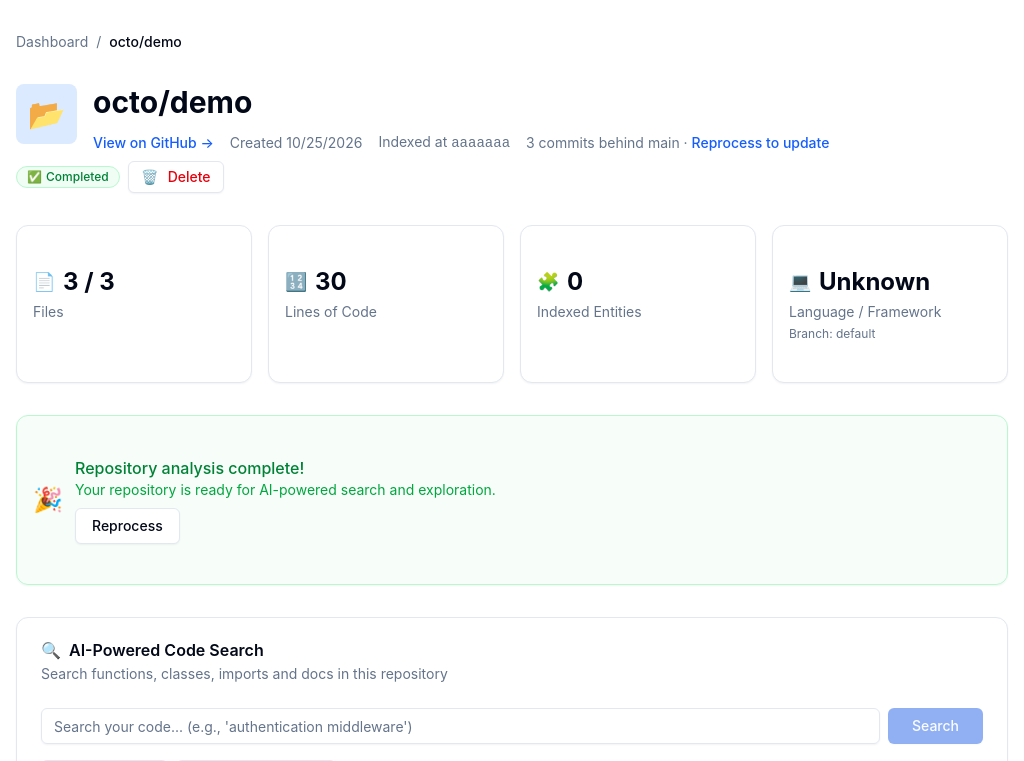
Test: RepositoryPage index freshness › shows {"commits_behind":3,"changed":true} as '3 commits behind main' with a Reprocess hint
The image size is (1024, 761).
Check: the text "3 commits behind main" is shown, box 526,134 -> 680,150
Click the button "Reprocess to update": {"x": 760, "y": 142} 692,132 -> 829,152
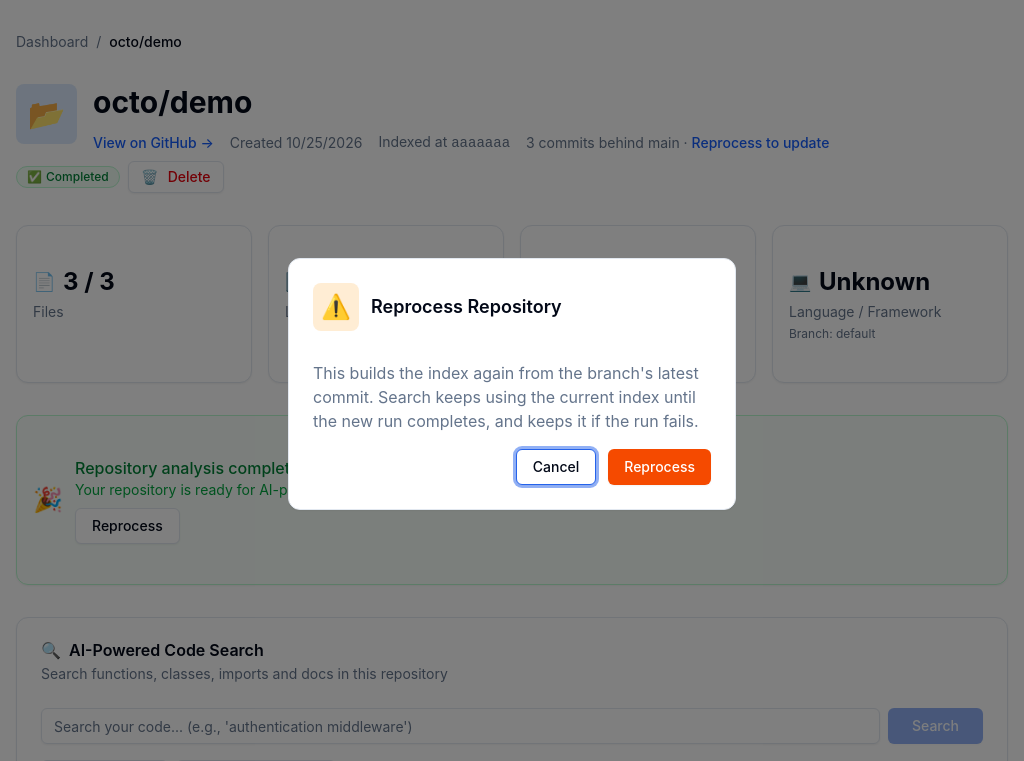
Check: the text "Reprocess Repository" is shown, box 371,293 -> 562,321
Check: the text "search keeps using the current index" is shown, box 313,363 -> 699,431
